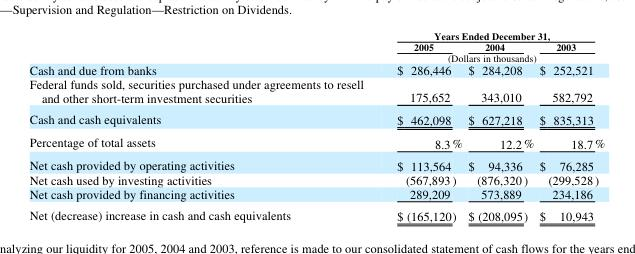table: (28, 28, 604, 223)
table column: (28, 28, 379, 223), (379, 28, 464, 223), (464, 28, 536, 223), (536, 28, 604, 223)
table column header: (28, 28, 604, 62)
table row: (28, 76, 604, 107), (28, 107, 604, 130), (28, 130, 604, 153), (28, 203, 604, 223), (28, 153, 604, 171), (28, 185, 604, 203), (28, 62, 604, 76), (28, 171, 604, 185), (28, 28, 604, 41), (28, 41, 604, 52), (28, 52, 604, 62)
table spanning cell: (379, 28, 604, 41), (379, 52, 604, 62)
